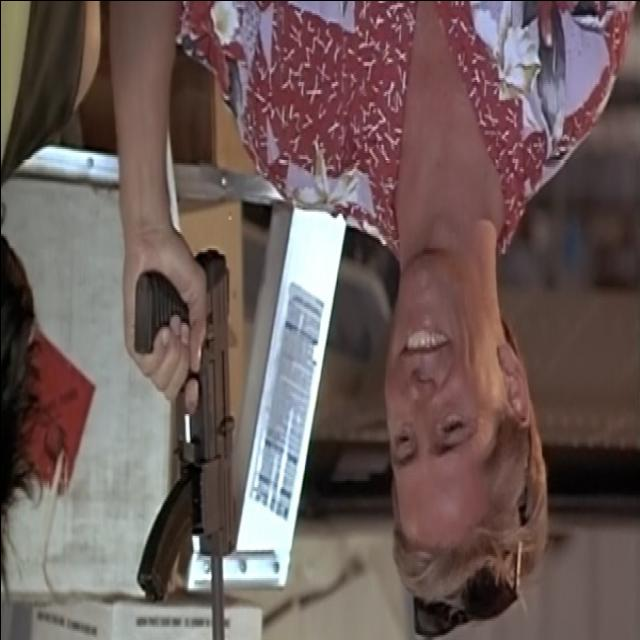weapons: (116, 239, 262, 640)
